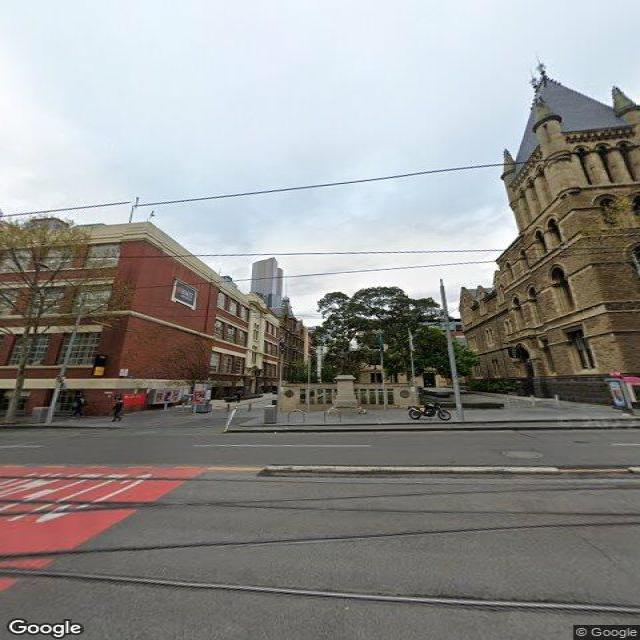mid mount suitable pole: (32, 261, 86, 425)
steel-pole: (44, 294, 83, 424), (439, 278, 465, 422)
streetlight: (32, 262, 82, 300)
